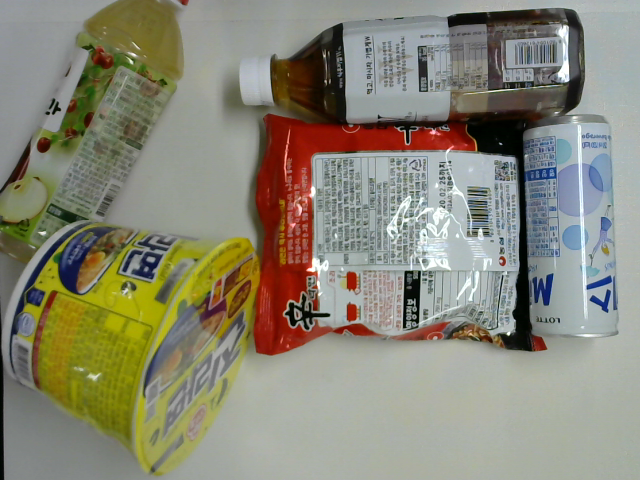Jinlamyeon_Mild_Taste_Large_Cup: (1, 220, 263, 475)
Milkies_250ml: (529, 113, 619, 341)
Morning_Apple_500ml: (1, 3, 189, 267)
Post-meal_recipe_W_tea_500ml: (237, 4, 589, 134)
Sinramen: (247, 111, 550, 357)
